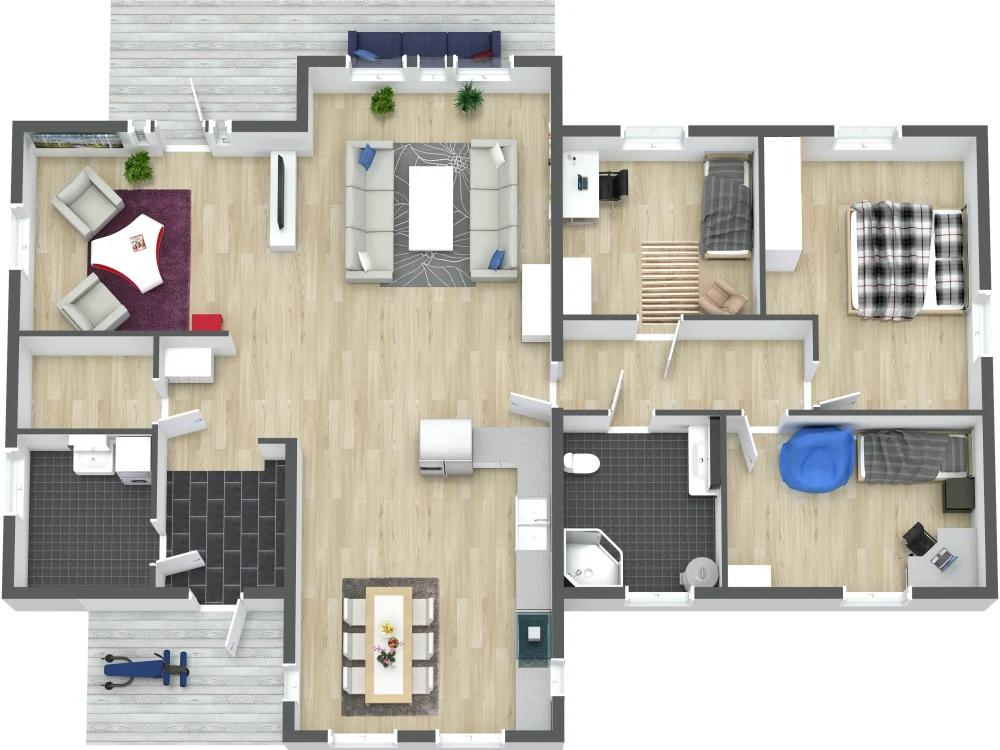room: (16, 124, 560, 339), (289, 342, 557, 738), (724, 413, 987, 592), (558, 129, 762, 316), (558, 411, 722, 592), (14, 431, 155, 591), (158, 439, 291, 588), (13, 334, 156, 430)
